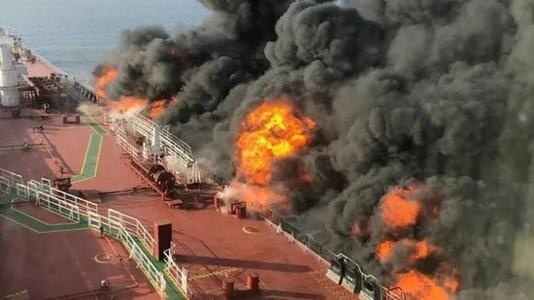fire: (374, 181, 462, 300), (235, 101, 313, 176), (96, 70, 173, 115)
